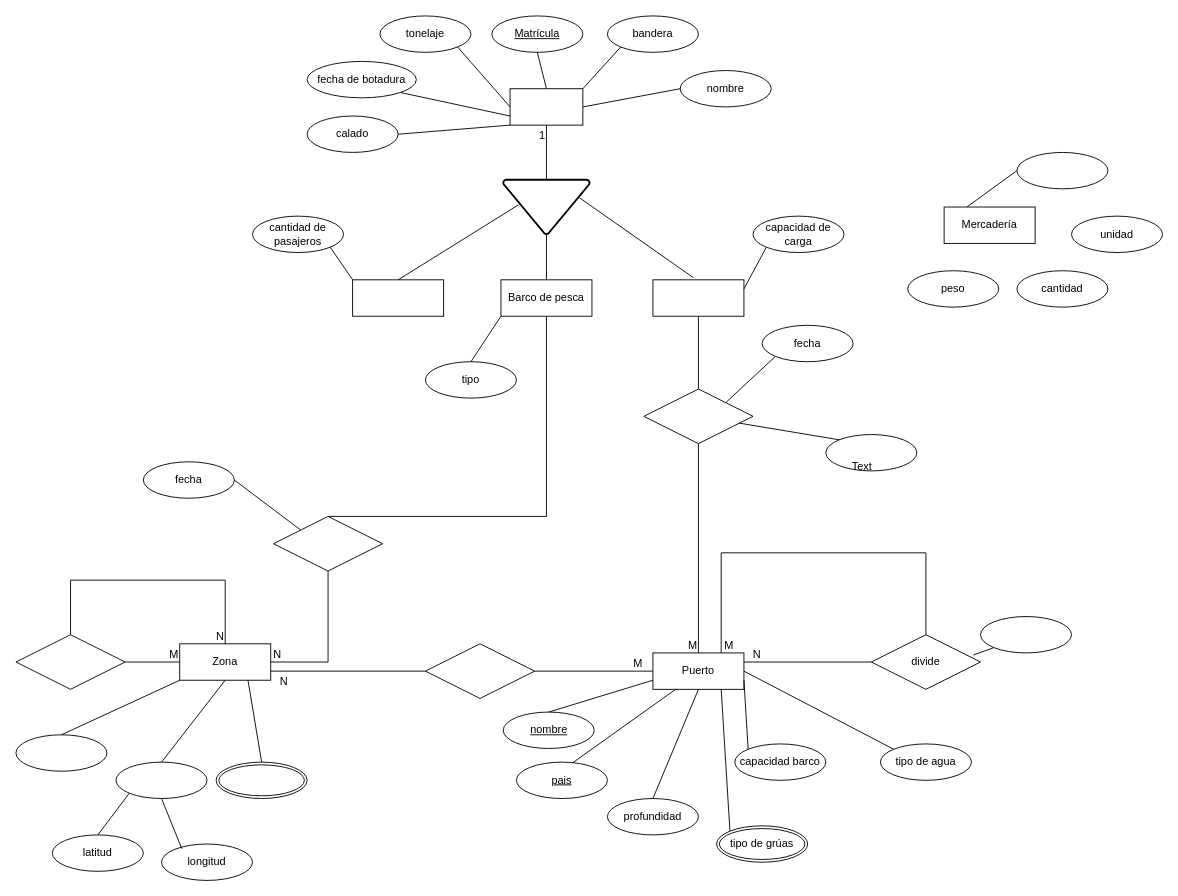
This 1178x896 diagram has some shape labels left out. Each missing label, with the box of its shape:
atraca: (643, 388, 753, 444)
Barco: (509, 88, 583, 125)
Barco de carga: (652, 279, 744, 316)
Barcos de pasajeros: (352, 279, 444, 316)
coordenadas: (115, 761, 207, 799)
código: (15, 734, 107, 771)
código mercadería: (1016, 152, 1108, 189)
distancia: (980, 616, 1072, 653)
es: (502, 178, 590, 235)
Especies permitidas: (215, 761, 307, 799)
movimiento: (825, 434, 917, 471)
pertenece: (425, 643, 535, 698)
su limite es: (15, 634, 125, 689)
trabaja: (273, 516, 383, 571)
